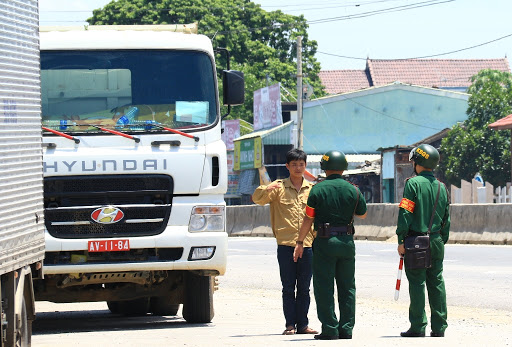plate: (86, 239, 132, 251)
